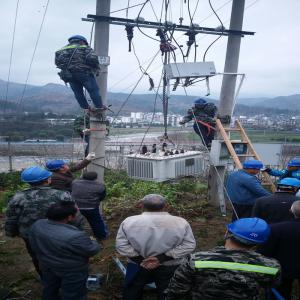blue: (225, 218, 273, 249), (21, 166, 53, 186), (278, 179, 300, 194), (46, 160, 71, 173), (242, 161, 265, 175), (67, 36, 89, 47), (285, 159, 300, 174), (194, 98, 209, 110)
none: (47, 202, 82, 224), (141, 194, 169, 213), (82, 172, 100, 183)
